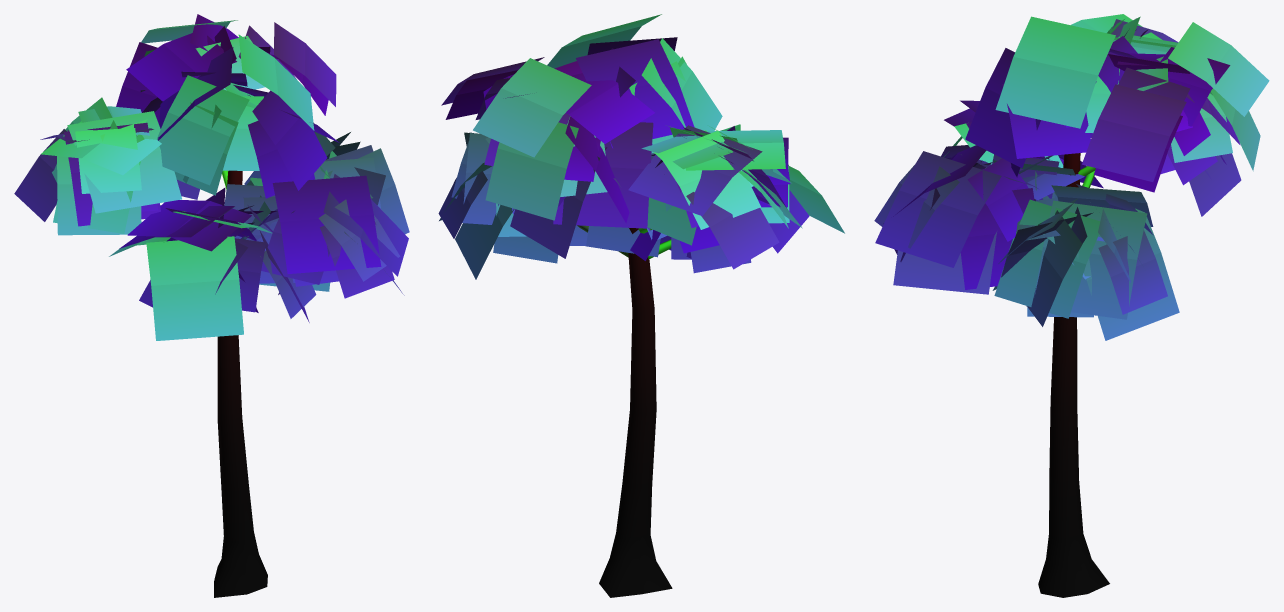
The model's file is Jungle5_LOD1.fbx.
3 views of the same model, side by side, from view 1: azimuth 30°, elevation 25°; view 2: azimuth 150°, elevation 25°; view 3: azimuth 270°, elevation 25° (orthographic). The views are drawn at different scales.
Parts seen in each view (by area): view 1: Jungle5_Lite; view 2: Jungle5_Lite; view 3: Jungle5_Lite.
Part boxes in pixels (x1=…): Jungle5_Lite: x1=14, y1=14, x2=409, y2=597; Jungle5_Lite: x1=438, y1=14, x2=844, y2=597; Jungle5_Lite: x1=874, y1=14, x2=1269, y2=597.
Size of the model in its own units: 16.24 by 24.72 by 15.68.
